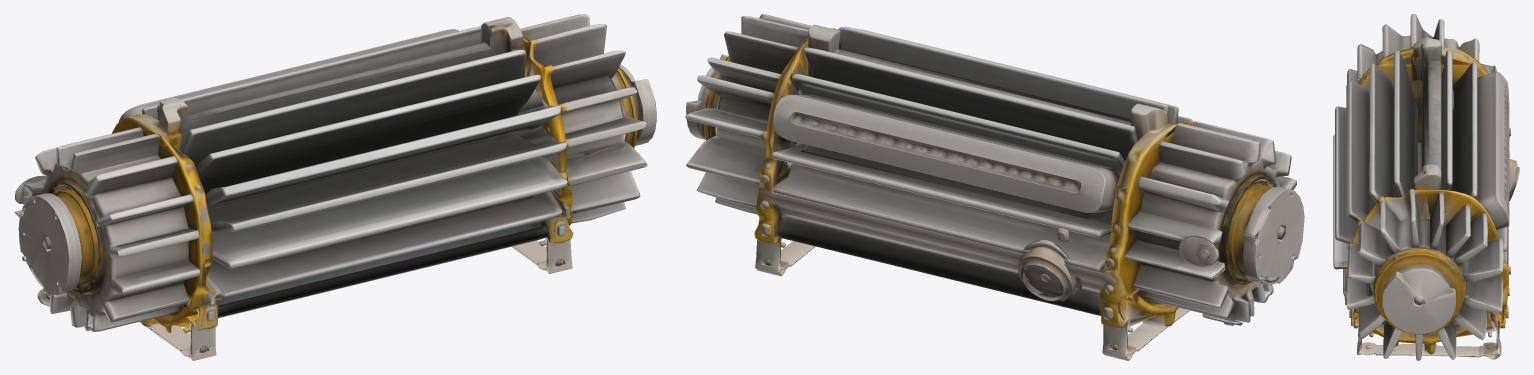
File: tripo_convert_43500a97-af33-4abc-90c9-350fa8002c60.fbx
3 renders of one model, left to right at view 1: azimuth 30°, elevation 25°; view 2: azimuth 150°, elevation 25°; view 3: azimuth 270°, elevation 25°, orthographic. The views are drawn at different scales.
Visible parts, largest first — view 1: tripo_node_43500a97; view 2: tripo_node_43500a97; view 3: tripo_node_43500a97.
Part boxes in pixels (box(x1,y1,x2,y2)): tripo_node_43500a97: box(14, 14, 656, 360); tripo_node_43500a97: box(685, 14, 1304, 360); tripo_node_43500a97: box(1333, 14, 1519, 360).
Size of the model in its own units: 0.9995 by 0.3647 by 0.3423.
